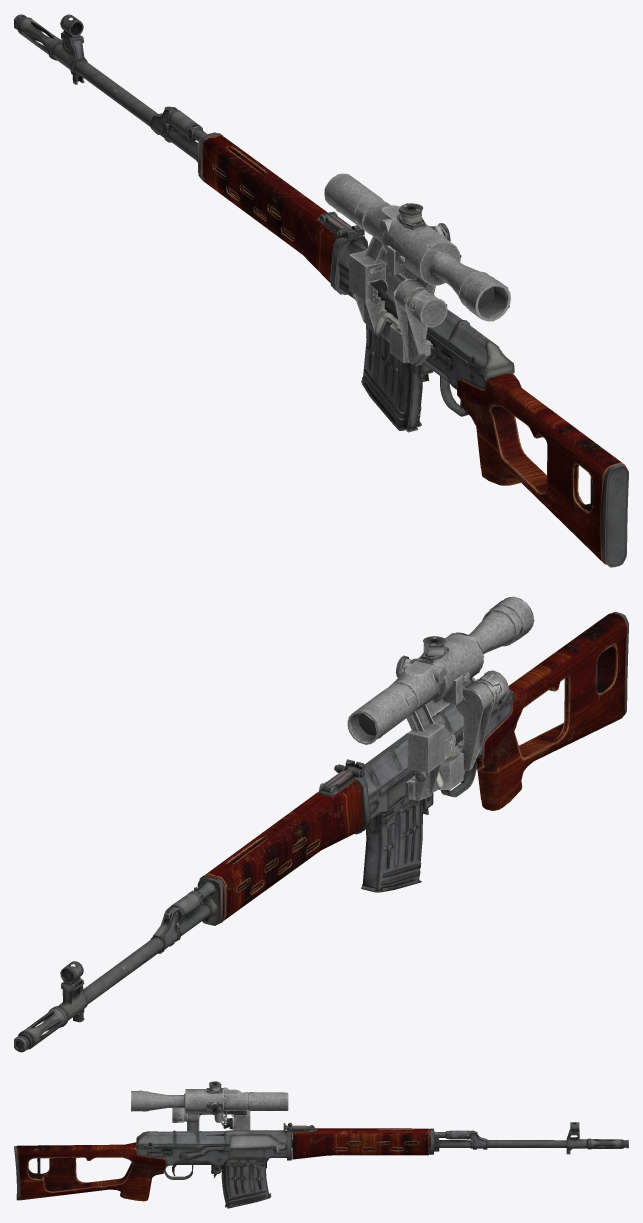
Rendered from Sniper FBX.fbx.
3 renders of one model, top to bottom at view 1: azimuth 30°, elevation 25°; view 2: azimuth 150°, elevation 25°; view 3: azimuth 270°, elevation 25°, orthographic. The views are drawn at different scales.
Visible parts, largest first — view 1: Object_4, Object_5, Object_5.001, Object_3, Object_3.002, Object_2.001; view 2: Object_4, Object_5, Object_5.001, Object_3.002, Object_3, Object_2.001; view 3: Object_5, Object_3, Object_4, Object_5.001, Object_3.002, Object_2.001, Object_2.003.
Boxes of the visible parts, x1,y1,x2,y2 form: Object_4: (324,173,510,366); Object_5: (457,373,628,567); Object_5.001: (198,132,367,294); Object_3: (319,211,514,416); Object_3.002: (14,14,206,162); Object_2.001: (361,324,422,432); Object_4: (347,596,534,800); Object_5: (475,612,628,810); Object_5.001: (197,777,370,925); Object_3.002: (14,882,216,1052); Object_3: (319,688,514,820); Object_2.001: (361,797,423,892); Object_5: (14,1142,166,1201); Object_3: (136,1122,316,1179); Object_4: (131,1081,288,1131); Object_5.001: (287,1128,437,1160); Object_3.002: (434,1122,628,1154); Object_2.001: (221,1158,271,1208); Object_2.003: (229,1130,285,1153).
Bounding box in the file's own units: 9.59 × 26.24 × 122.
3 materials, 3 textured.
